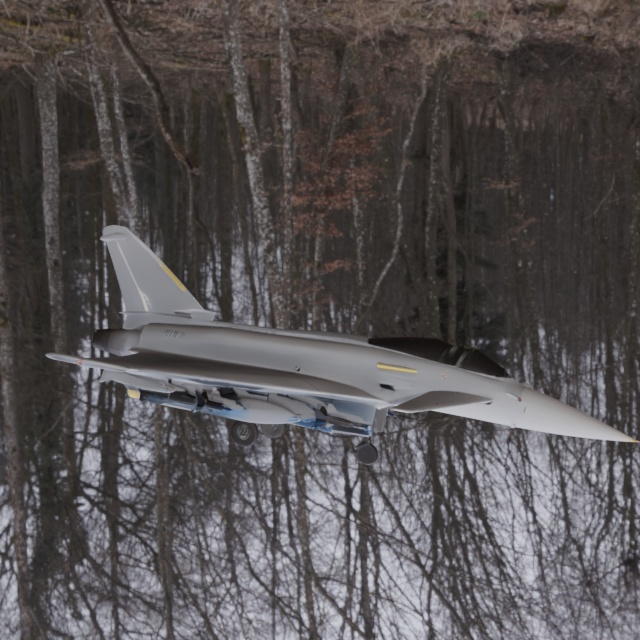eurofighter_typhoon_3d: (0, 202, 640, 570)
